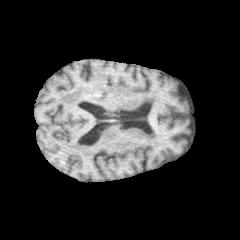glioma: (58, 66, 116, 107)
